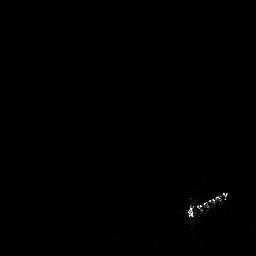ship: (187, 191, 228, 217)
